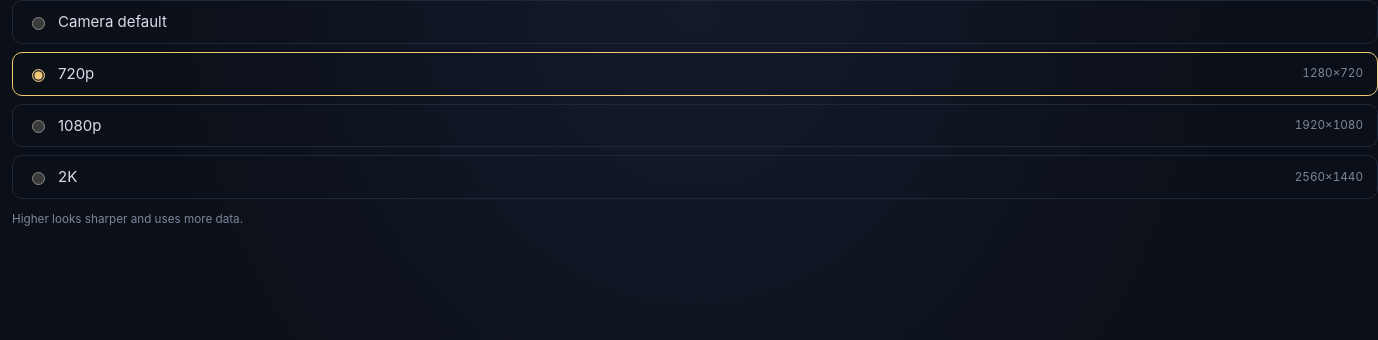
Test: goes back to the old choice when saving fails
The width and height of the screenshot is (1378, 340).
Click the radio button labelled "1080p 1920×1080". click: {"x": 38, "y": 127}
box: [32,120,45,133]
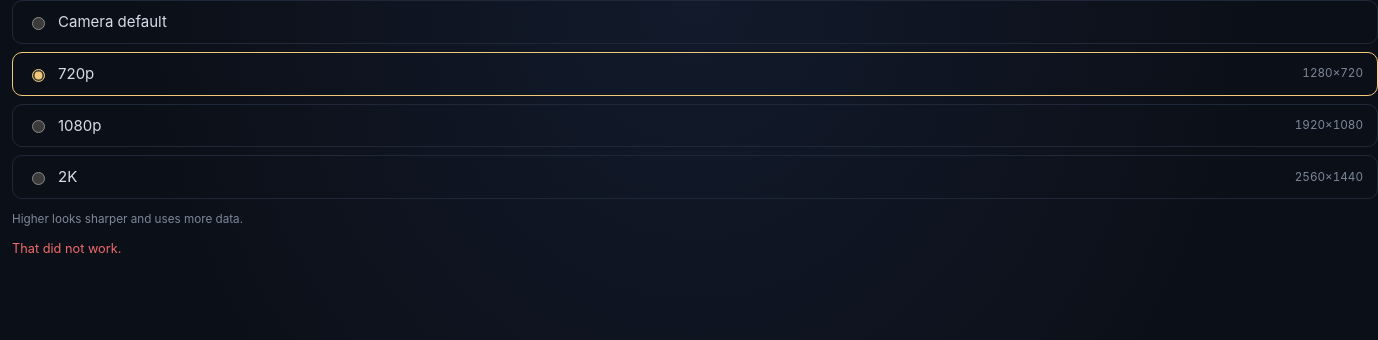
Expected: the radio button labelled "720p 1280×720" is checked, [32,69,45,82]
Expected: the message reads "That did not work.", [12,241,121,256]
